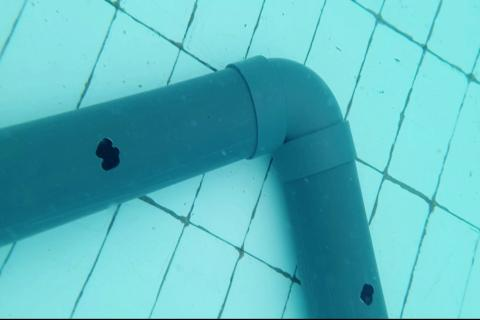kebocoran: (93, 135, 121, 172), (358, 281, 375, 307)
